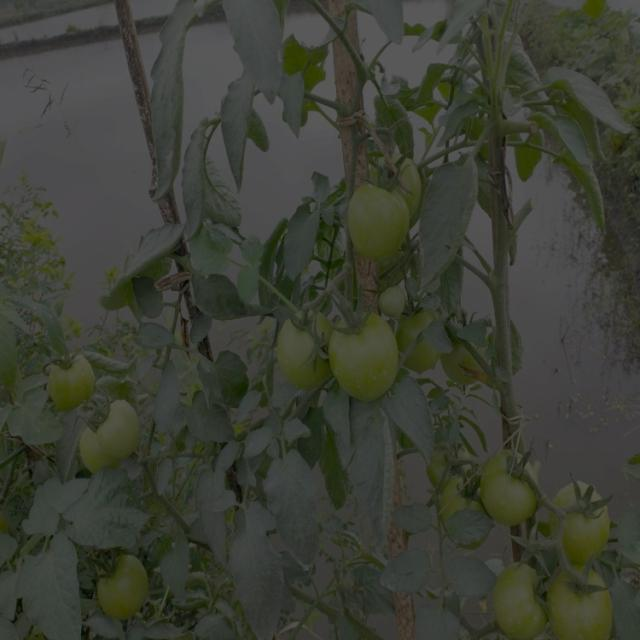tomato: (326, 307, 404, 406), (547, 565, 622, 640), (481, 449, 545, 527), (551, 481, 613, 561), (274, 307, 329, 396), (348, 179, 413, 254), (496, 560, 554, 638), (92, 556, 153, 620), (51, 350, 103, 410), (402, 300, 444, 370), (380, 149, 424, 204), (99, 403, 132, 465), (78, 429, 113, 476), (440, 479, 484, 516), (445, 343, 484, 384), (433, 449, 474, 485)
